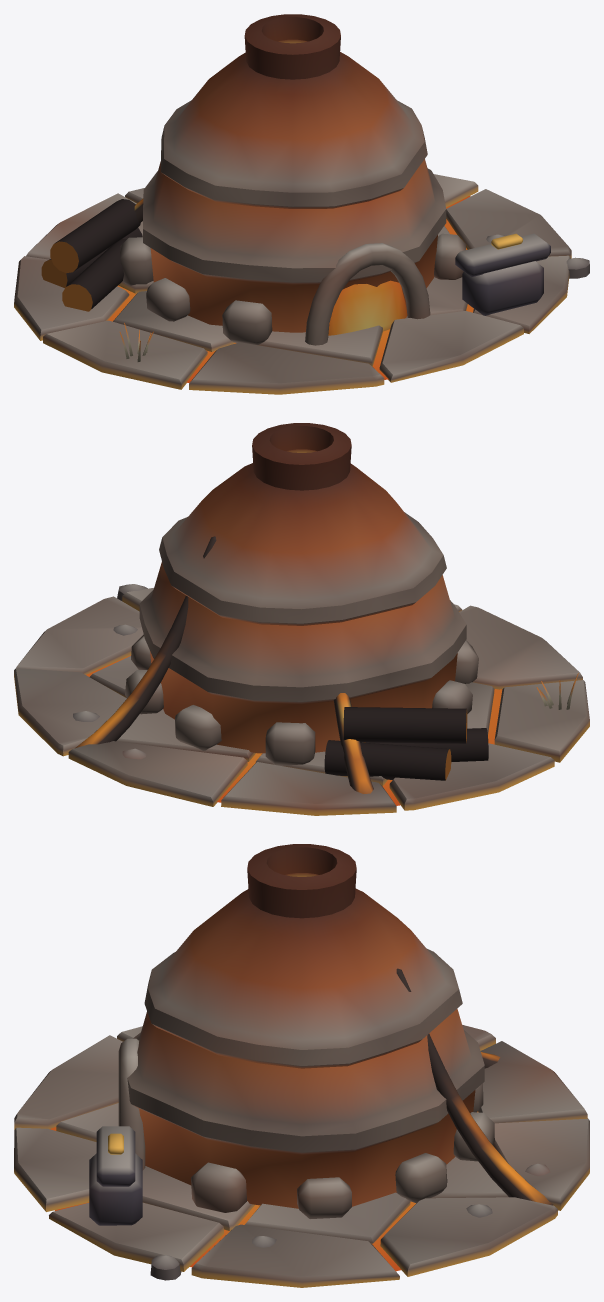
The model's file is EmberForge.fbx.
3 renders of one model, top to bottom at view 1: azimuth 30°, elevation 25°; view 2: azimuth 150°, elevation 25°; view 3: azimuth 270°, elevation 25°, orthographic. The views are drawn at different scales.
Parts seen in each view (by area): view 1: EmberForge; view 2: EmberForge; view 3: EmberForge.
Part boxes in pixels (bbox=[...]): EmberForge: bbox=[14, 14, 589, 394]; EmberForge: bbox=[14, 423, 589, 815]; EmberForge: bbox=[14, 844, 589, 1287].
Size of the model in its own units: 3.7 by 1.79 by 3.25.
